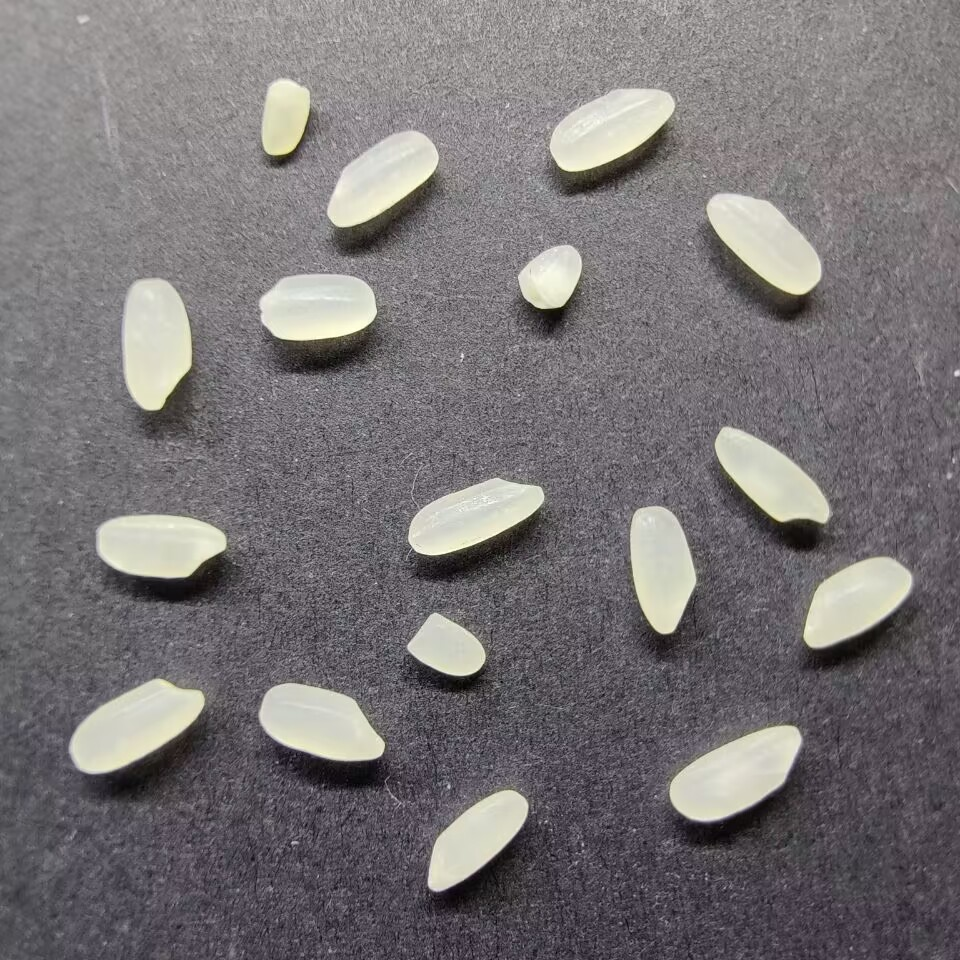broken: (405, 609, 486, 678), (515, 243, 584, 311), (258, 78, 312, 156)
rice: (66, 678, 205, 775), (670, 724, 802, 824), (703, 192, 823, 296), (714, 423, 832, 528), (405, 474, 545, 556), (323, 131, 440, 228), (423, 787, 529, 893), (547, 87, 676, 173), (257, 681, 387, 762), (802, 556, 914, 650), (121, 276, 192, 413), (628, 502, 697, 637), (95, 512, 228, 581), (256, 272, 378, 342)
